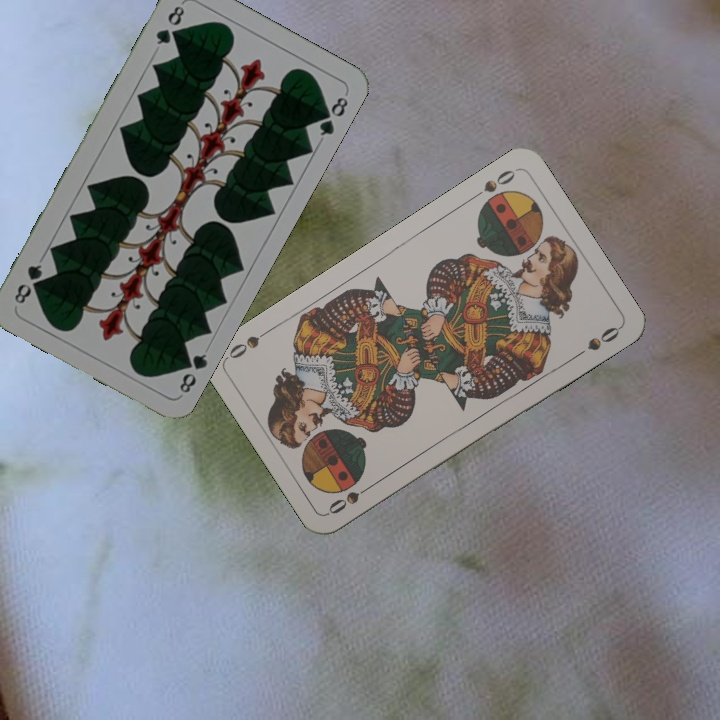G8: (174, 349, 210, 396), (152, 1, 187, 48)
SO: (324, 479, 378, 517), (467, 165, 519, 203)
